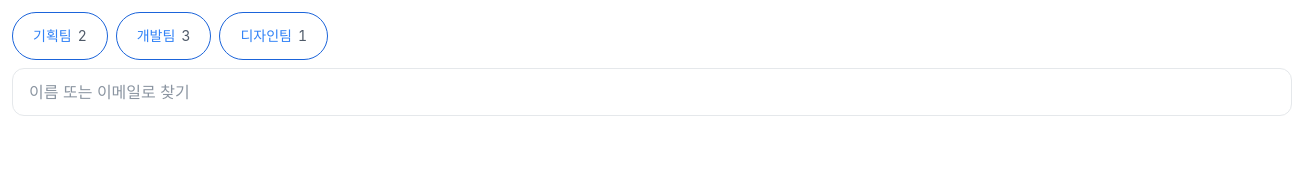
Test: AttendeePicker directory search › renders a directory result only after the 250 ms debounce boundary
Type "boundary" into the field named "참석자 검색".
click(652, 92); type("boundary")  # box x1=12 y1=68 x2=1292 y2=116
Wait 250 ms
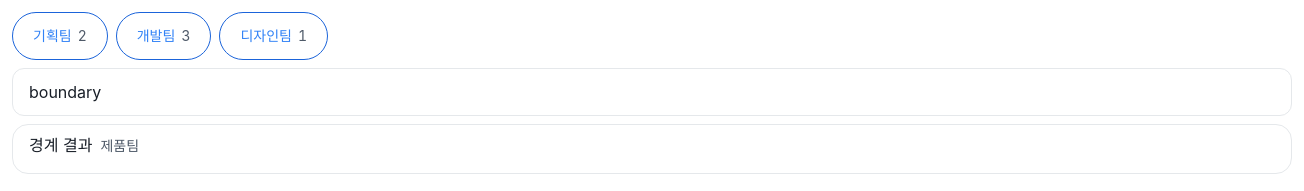
Check: the button "경계 결과 제품팀" is shown, box x1=13 y1=125 x2=1291 y2=173
